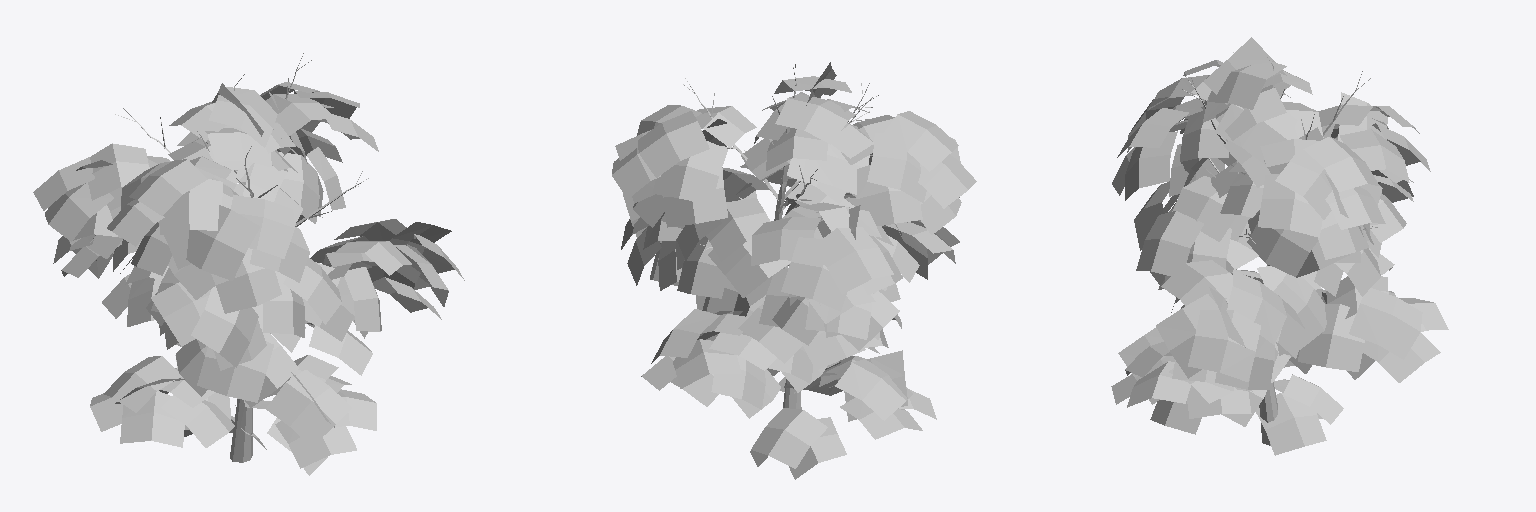
Rendered from tree1b_lod0.obj.
3 renders of one model, left to right at view 1: azimuth 30°, elevation 25°; view 2: azimuth 150°, elevation 25°; view 3: azimuth 270°, elevation 25°, orthographic.
Visible parts, largest first — view 1: leaves 0.0 0.[number redacted] 0.0 0 0 0 0.[number redacted] 0.[number redacted], bark -0.[number redacted] -0.[number redacted] 0.[number redacted]; view 2: leaves 0.0 0.[number redacted] 0.0 0 0 0 0.[number redacted] 0.[number redacted], bark -0.[number redacted] -0.[number redacted] 0.[number redacted]; view 3: leaves 0.0 0.[number redacted] 0.0 0 0 0 0.[number redacted] 0.[number redacted], bark -0.[number redacted] -0.[number redacted] 0.[number redacted].
Part boxes in pixels (bbox=[...]): leaves 0.0 0.[number redacted] 0.0 0 0 0 0.[number redacted] 0.[number redacted]: bbox=[33, 82, 464, 475]; bark -0.[number redacted] -0.[number redacted] 0.[number redacted]: bbox=[115, 53, 368, 462]; leaves 0.0 0.[number redacted] 0.0 0 0 0 0.[number redacted] 0.[number redacted]: bbox=[612, 62, 976, 479]; bark -0.[number redacted] -0.[number redacted] 0.[number redacted]: bbox=[683, 64, 878, 408]; leaves 0.0 0.[number redacted] 0.0 0 0 0 0.[number redacted] 0.[number redacted]: bbox=[1111, 37, 1448, 455]; bark -0.[number redacted] -0.[number redacted] 0.[number redacted]: bbox=[1182, 52, 1377, 445].
Size of the model in its own units: 0.9227 by 1 by 0.7829.